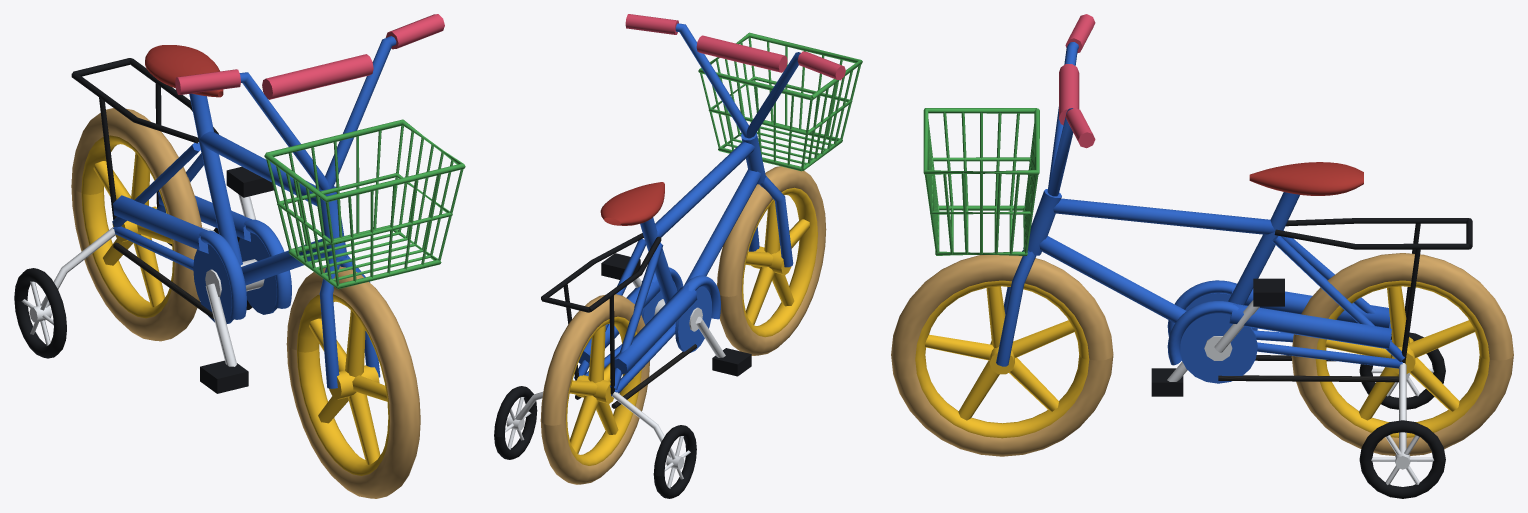
File: basikal_kanak_kanak_biru.glb
3 renders of one model, left to right at view 1: azimuth 30°, elevation 25°; view 2: azimuth 150°, elevation 25°; view 3: azimuth 270°, elevation 25°, orthographic. The views are drawn at different scales.
Visible parts, largest first — view 1: Basikal_Kanak_Kanak_Biru; view 2: Basikal_Kanak_Kanak_Biru; view 3: Basikal_Kanak_Kanak_Biru.
Part boxes in pixels (x1,y1,x2,y2): Basikal_Kanak_Kanak_Biru: (14, 14, 465, 498); Basikal_Kanak_Kanak_Biru: (494, 14, 862, 498); Basikal_Kanak_Kanak_Biru: (891, 14, 1513, 498).
Size of the model in its own units: 0.4461 by 0.664 by 0.98.
1 material, 1 textured.
